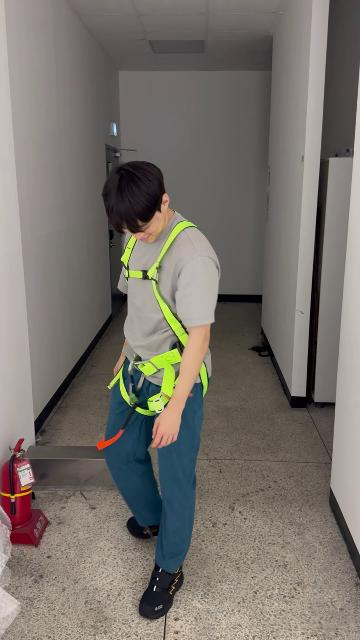helmet_not_worn: (101, 162, 168, 226)
shoe_worn: (139, 563, 183, 619), (126, 516, 159, 539)
vest_worn: (105, 220, 213, 420)
